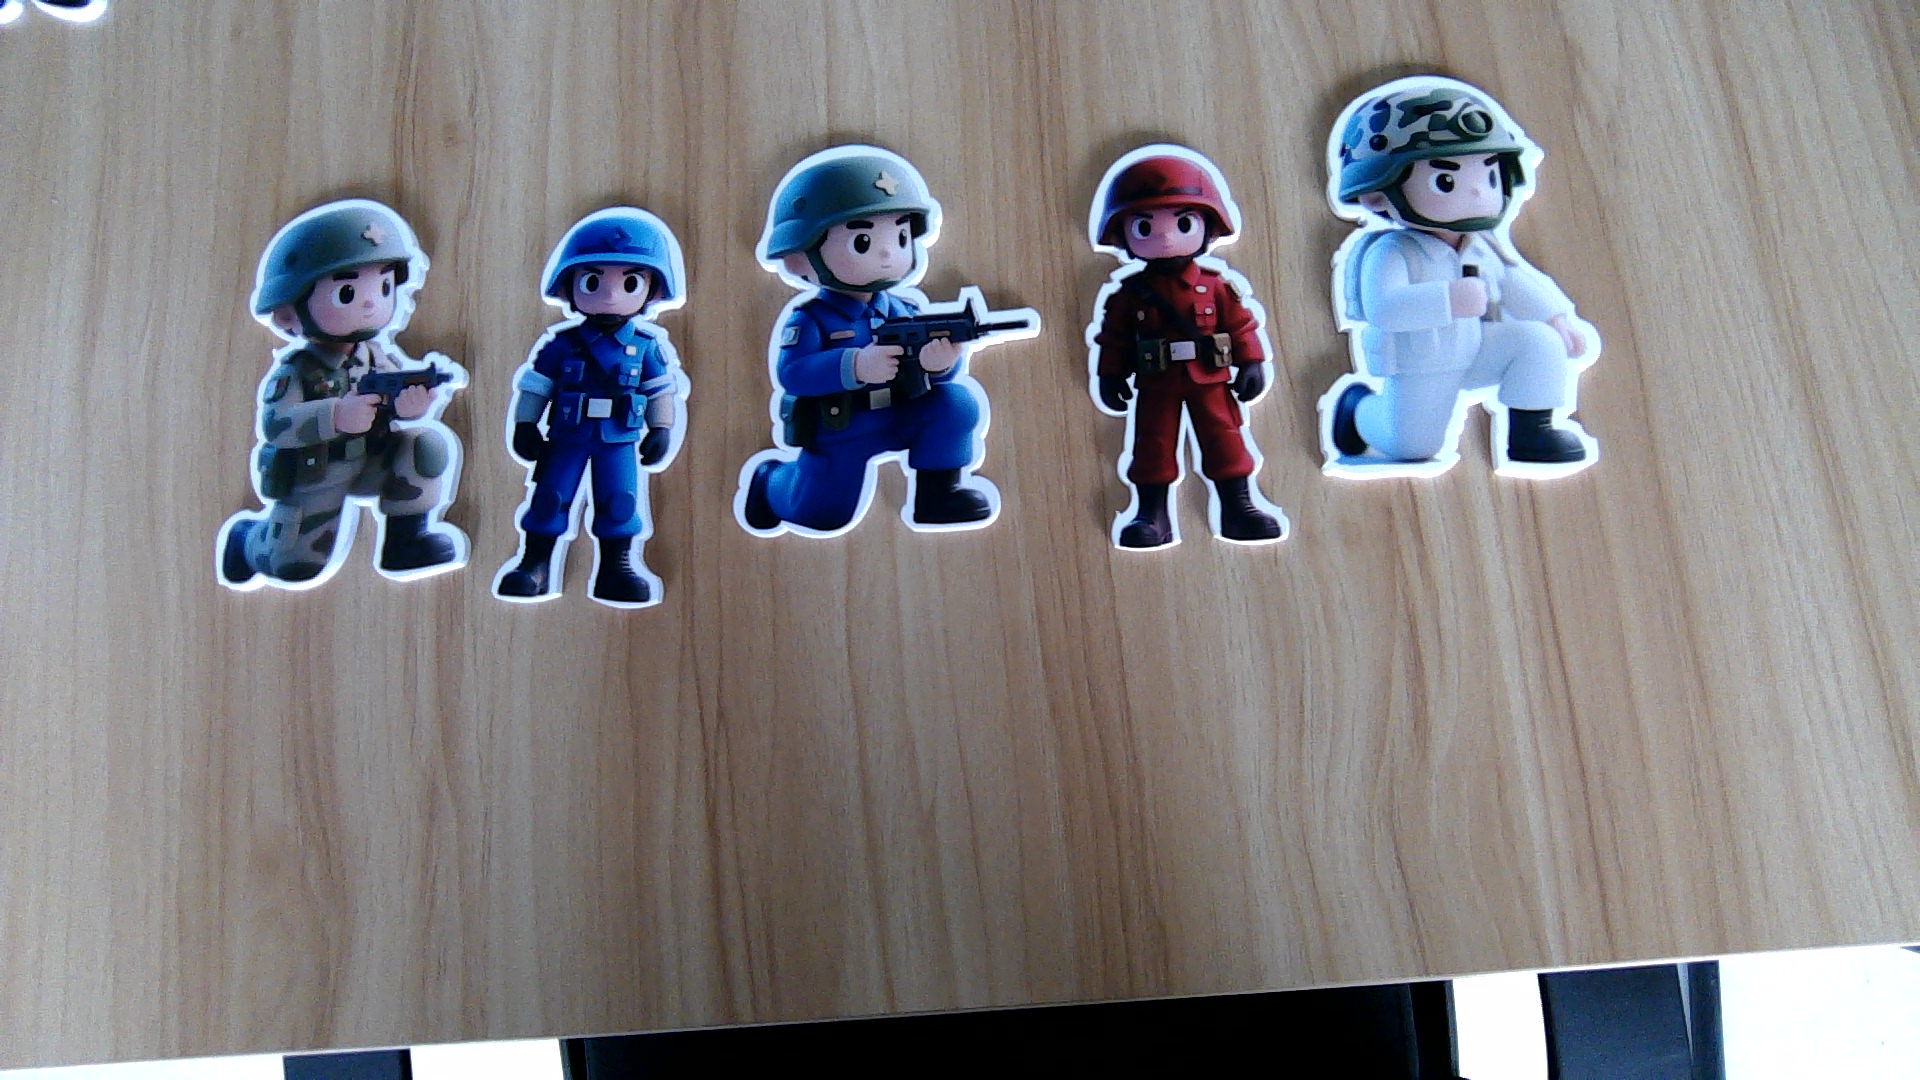人质: (1319, 237, 1607, 487)
友军: (203, 351, 479, 585)
敌人1: (1079, 261, 1292, 546)
敌人2: (731, 297, 1034, 537), (491, 320, 688, 612)
